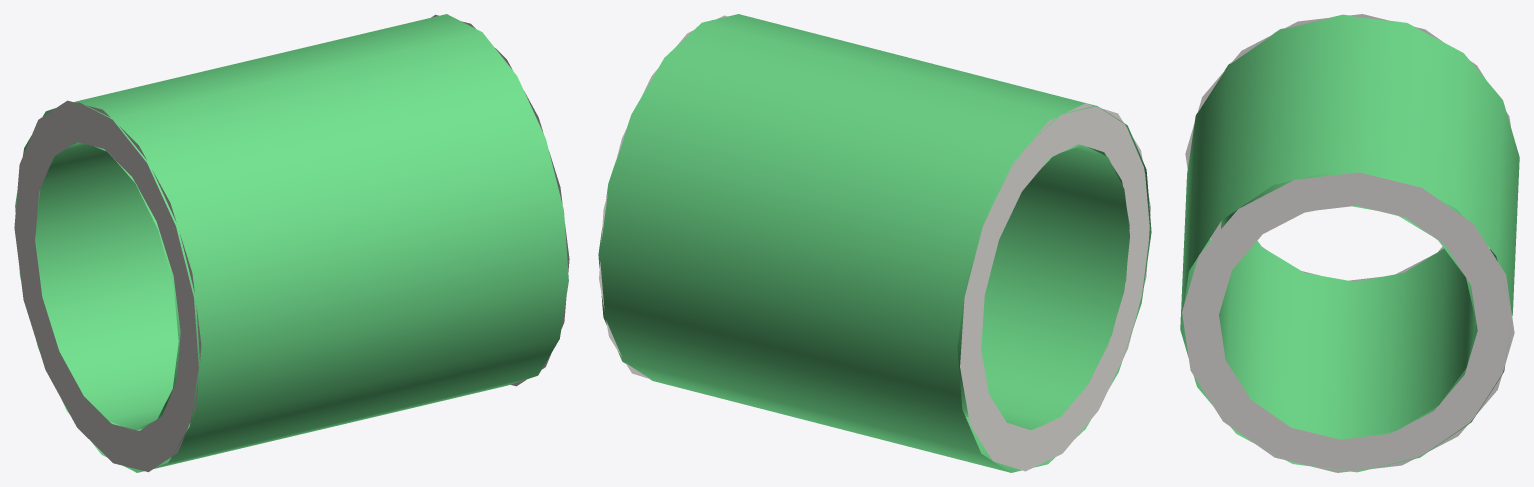
The model's file is SupportivePipeBlock.glb.
3 renders of one model, left to right at view 1: azimuth 30°, elevation 25°; view 2: azimuth 150°, elevation 25°; view 3: azimuth 270°, elevation 25°, orthographic. The views are drawn at different scales.
Parts seen in each view (by area): view 1: Pipe, object1, Hidden; view 2: Pipe, object1, Hidden; view 3: Pipe, object1, Hidden.
Part boxes in pixels (x1=…): Pipe: x1=15, y1=14, x2=568, y2=472; object1: x1=35, y1=142, x2=180, y2=430; Hidden: x1=14, y1=14, x2=569, y2=472; Pipe: x1=598, y1=14, x2=1151, y2=472; object1: x1=957, y1=144, x2=1129, y2=429; Hidden: x1=599, y1=15, x2=1150, y2=471; Pipe: x1=1180, y1=14, x2=1519, y2=472; object1: x1=1219, y1=170, x2=1476, y2=439; Hidden: x1=1182, y1=14, x2=1514, y2=472.
Size of the model in its own units: 2.54 by 2.26 by 2.29.
